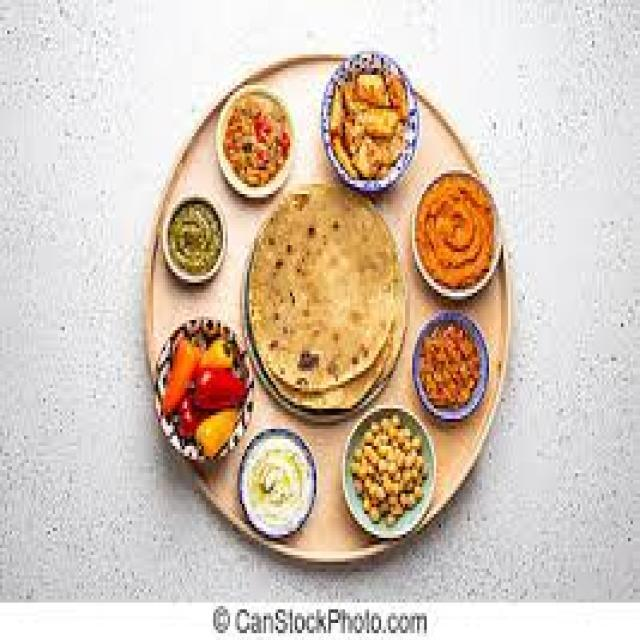pickle: (208, 82, 302, 198)
raita: (231, 430, 325, 539)
roti: (246, 185, 401, 402)
sweet: (212, 87, 306, 197), (412, 317, 495, 417), (158, 199, 232, 287)
